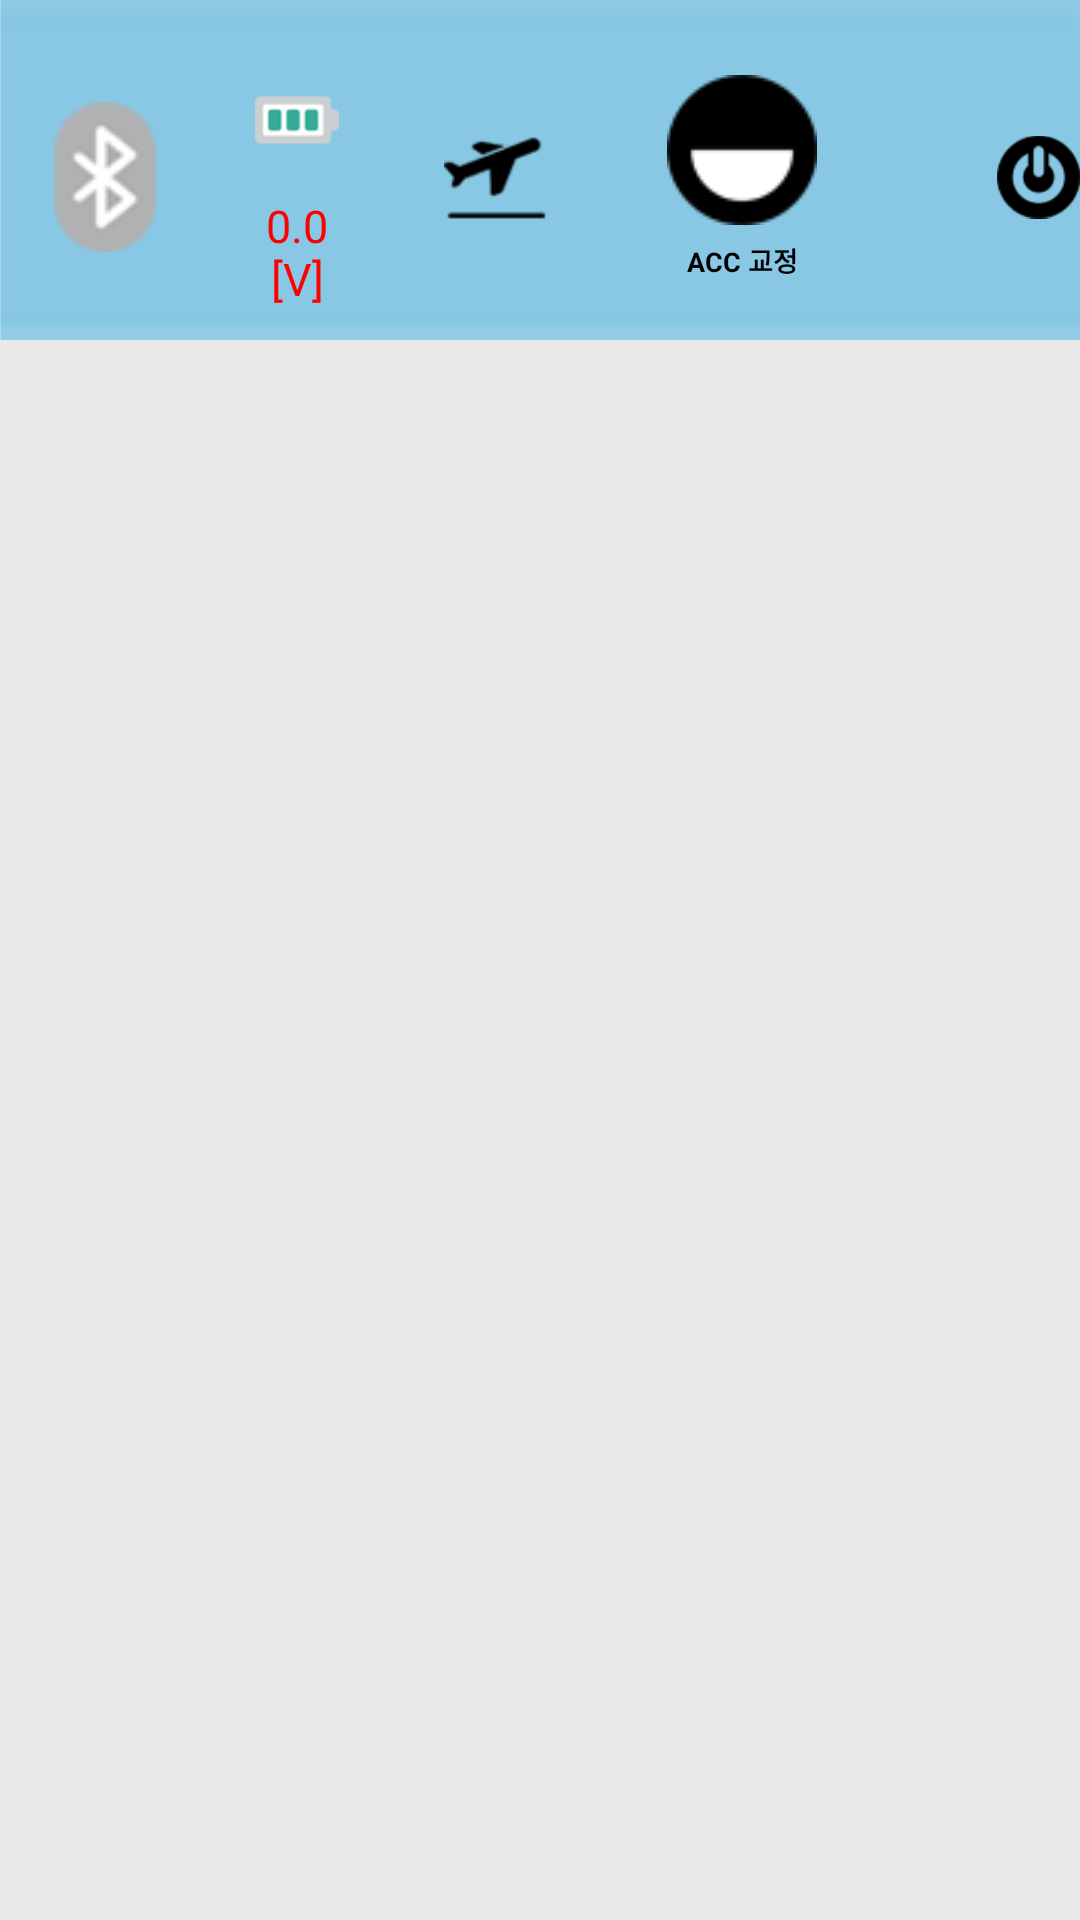

Where to tap for icons on this 1080 × 1920 app screen, as point (x, y):
plane: point (495, 178)
power off: point (1038, 177)
vbat: point (297, 120)
